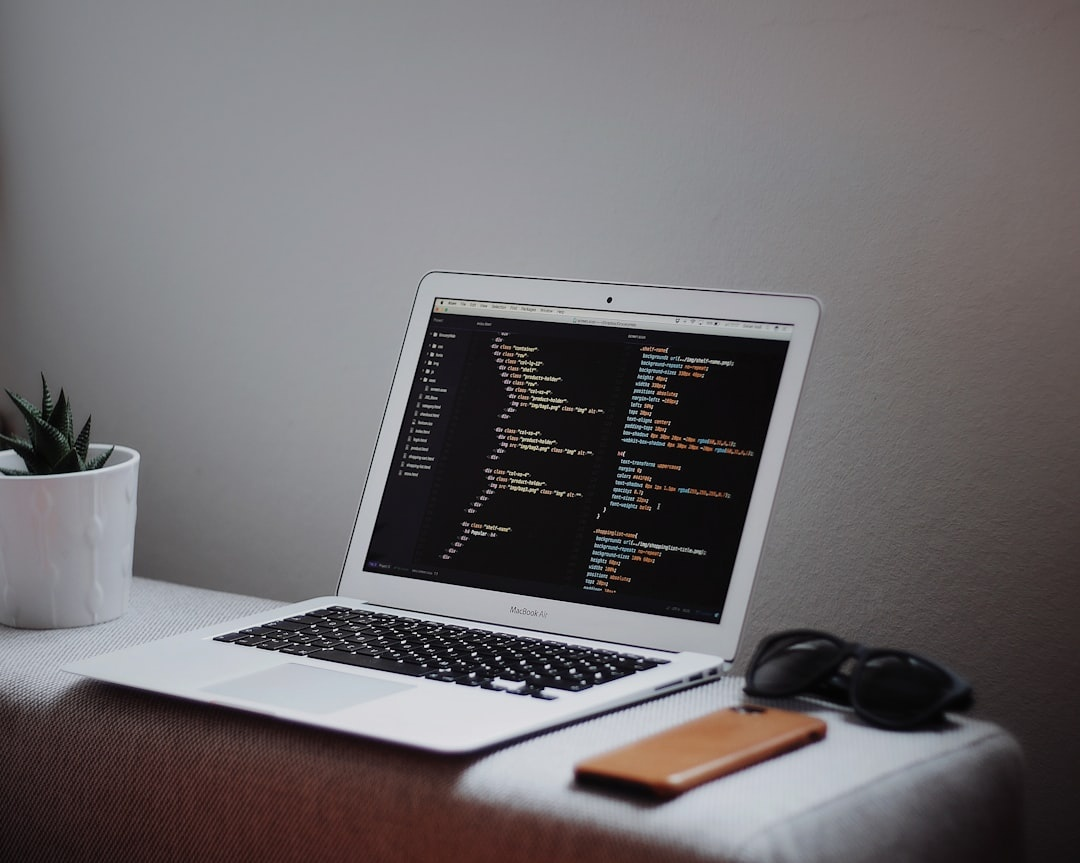laptop: (86, 184, 823, 762)
